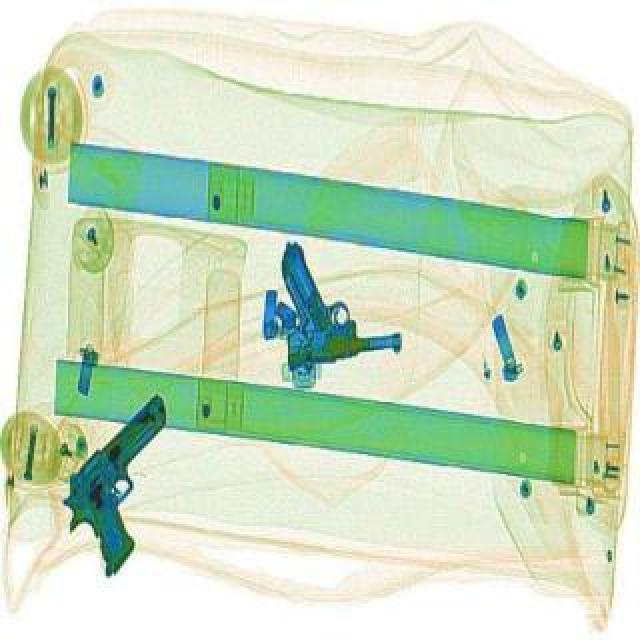gun: (32, 388, 232, 576), (270, 232, 402, 366)
